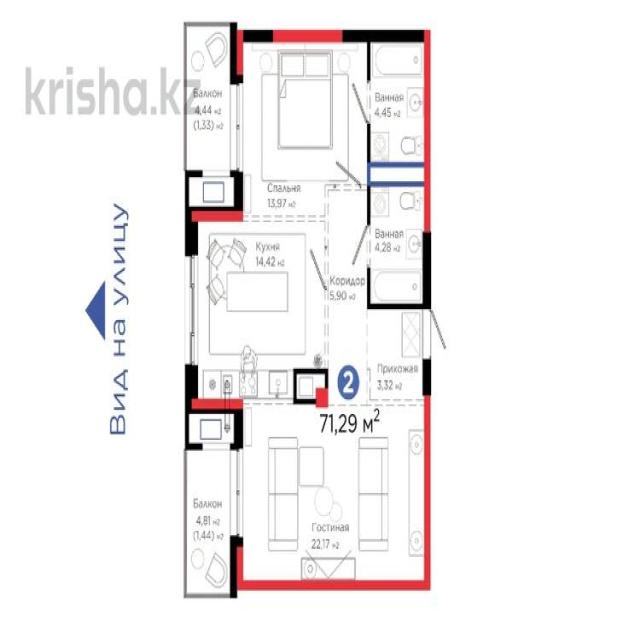balcony: (185, 22, 240, 175), (187, 443, 233, 594)
bathroom: (367, 182, 427, 305), (370, 36, 427, 164)
hallway: (326, 187, 370, 404), (368, 308, 427, 399)
kitchen: (192, 220, 326, 404)
living_room: (238, 404, 428, 578), (242, 33, 369, 218)
